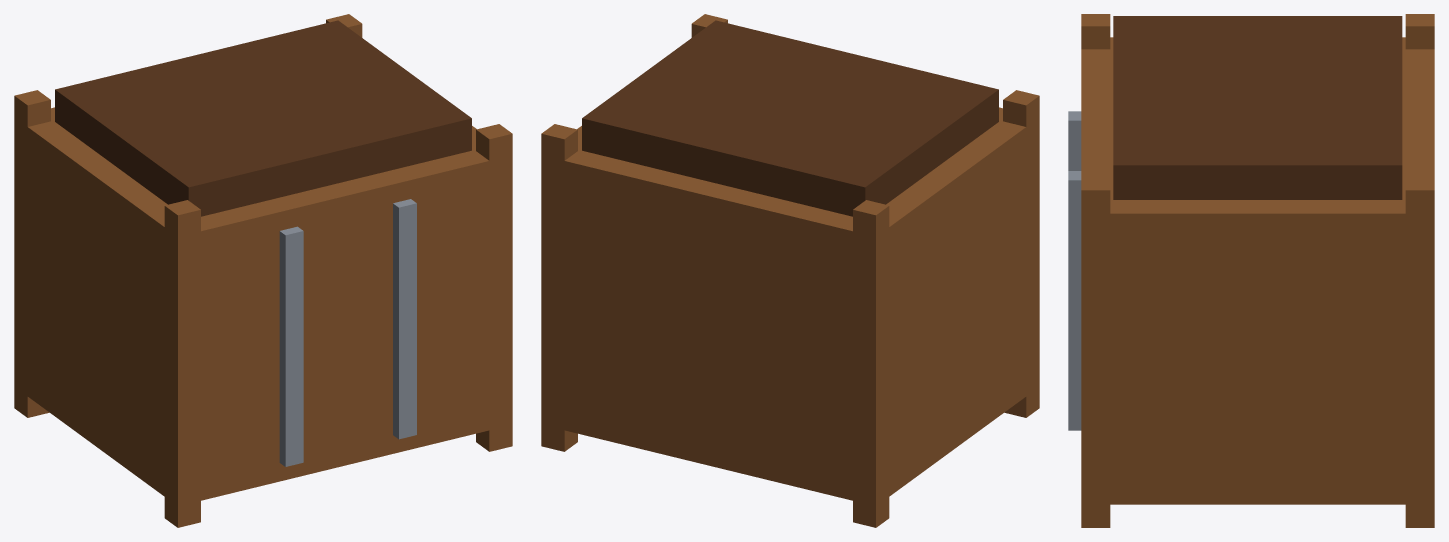
Rendered from CraftingBox.obj.
3 renders of one model, left to right at view 1: azimuth 30°, elevation 25°; view 2: azimuth 150°, elevation 25°; view 3: azimuth 270°, elevation 25°, orthographic. The views are drawn at different scales.
Size of the model in its own units: 1.3 by 1.2 by 1.14.
